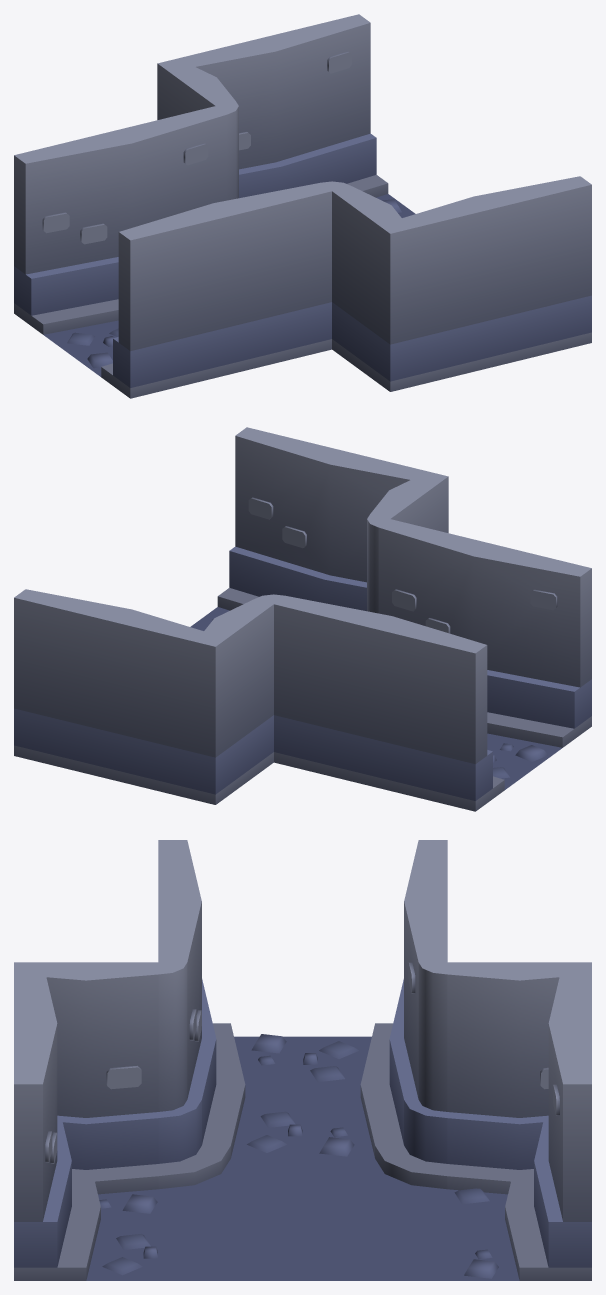
File: corridor-transition.fbx
3 views of the same model, one above another, from view 1: azimuth 30°, elevation 25°; view 2: azimuth 150°, elevation 25°; view 3: azimuth 270°, elevation 25° (orthographic). The views are drawn at different scales.
Parts seen in each view (by area): view 1: corridor-transition; view 2: corridor-transition; view 3: corridor-transition.
Part boxes in pixels (x1,y1,x2,y2): corridor-transition: [14, 14, 591, 398]; corridor-transition: [14, 427, 591, 811]; corridor-transition: [14, 840, 591, 1280].
Bounding box in the file's own units: 800 × 300 × 800.
1 material, 1 textured.
